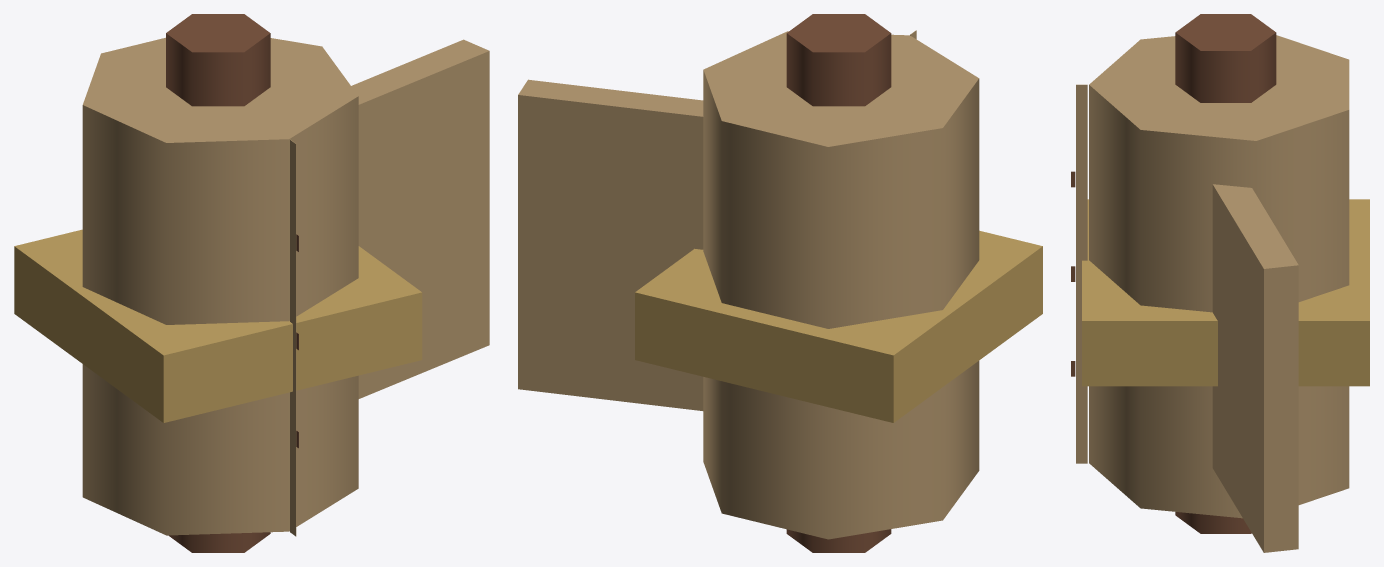
File: scroll-0-lod1.glb
3 renders of one model, left to right at view 1: azimuth 30°, elevation 25°; view 2: azimuth 150°, elevation 25°; view 3: azimuth 270°, elevation 25°, orthographic. The views are drawn at different scales.
Parts seen in each view (by area): view 1: piece_whole, ReadingSheet; view 2: piece_whole; view 3: piece_whole, ReadingSheet.
Boxes of the visible parts, x1,y1,x2,y2 form: piece_whole: (14,14,489,552); ReadingSheet: (290,139,298,536); piece_whole: (518,14,1042,552); piece_whole: (1082,14,1369,552); ReadingSheet: (1071,84,1087,463).
Size of the model in its own units: 0.3251 by 0.37 by 0.2075.
